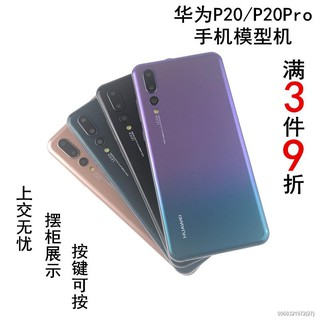Phone: (132, 52, 271, 261)
